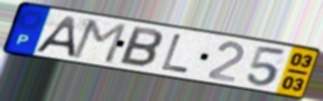2: (205, 40, 246, 85)
5: (244, 44, 288, 88)
A: (32, 15, 78, 59)
B: (116, 25, 165, 70)
L: (159, 32, 191, 75)
M: (69, 18, 129, 66)
